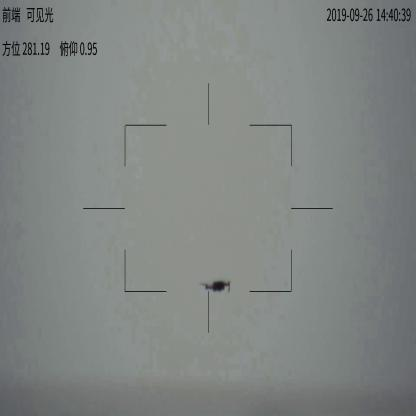uav: (199, 277, 234, 296)
